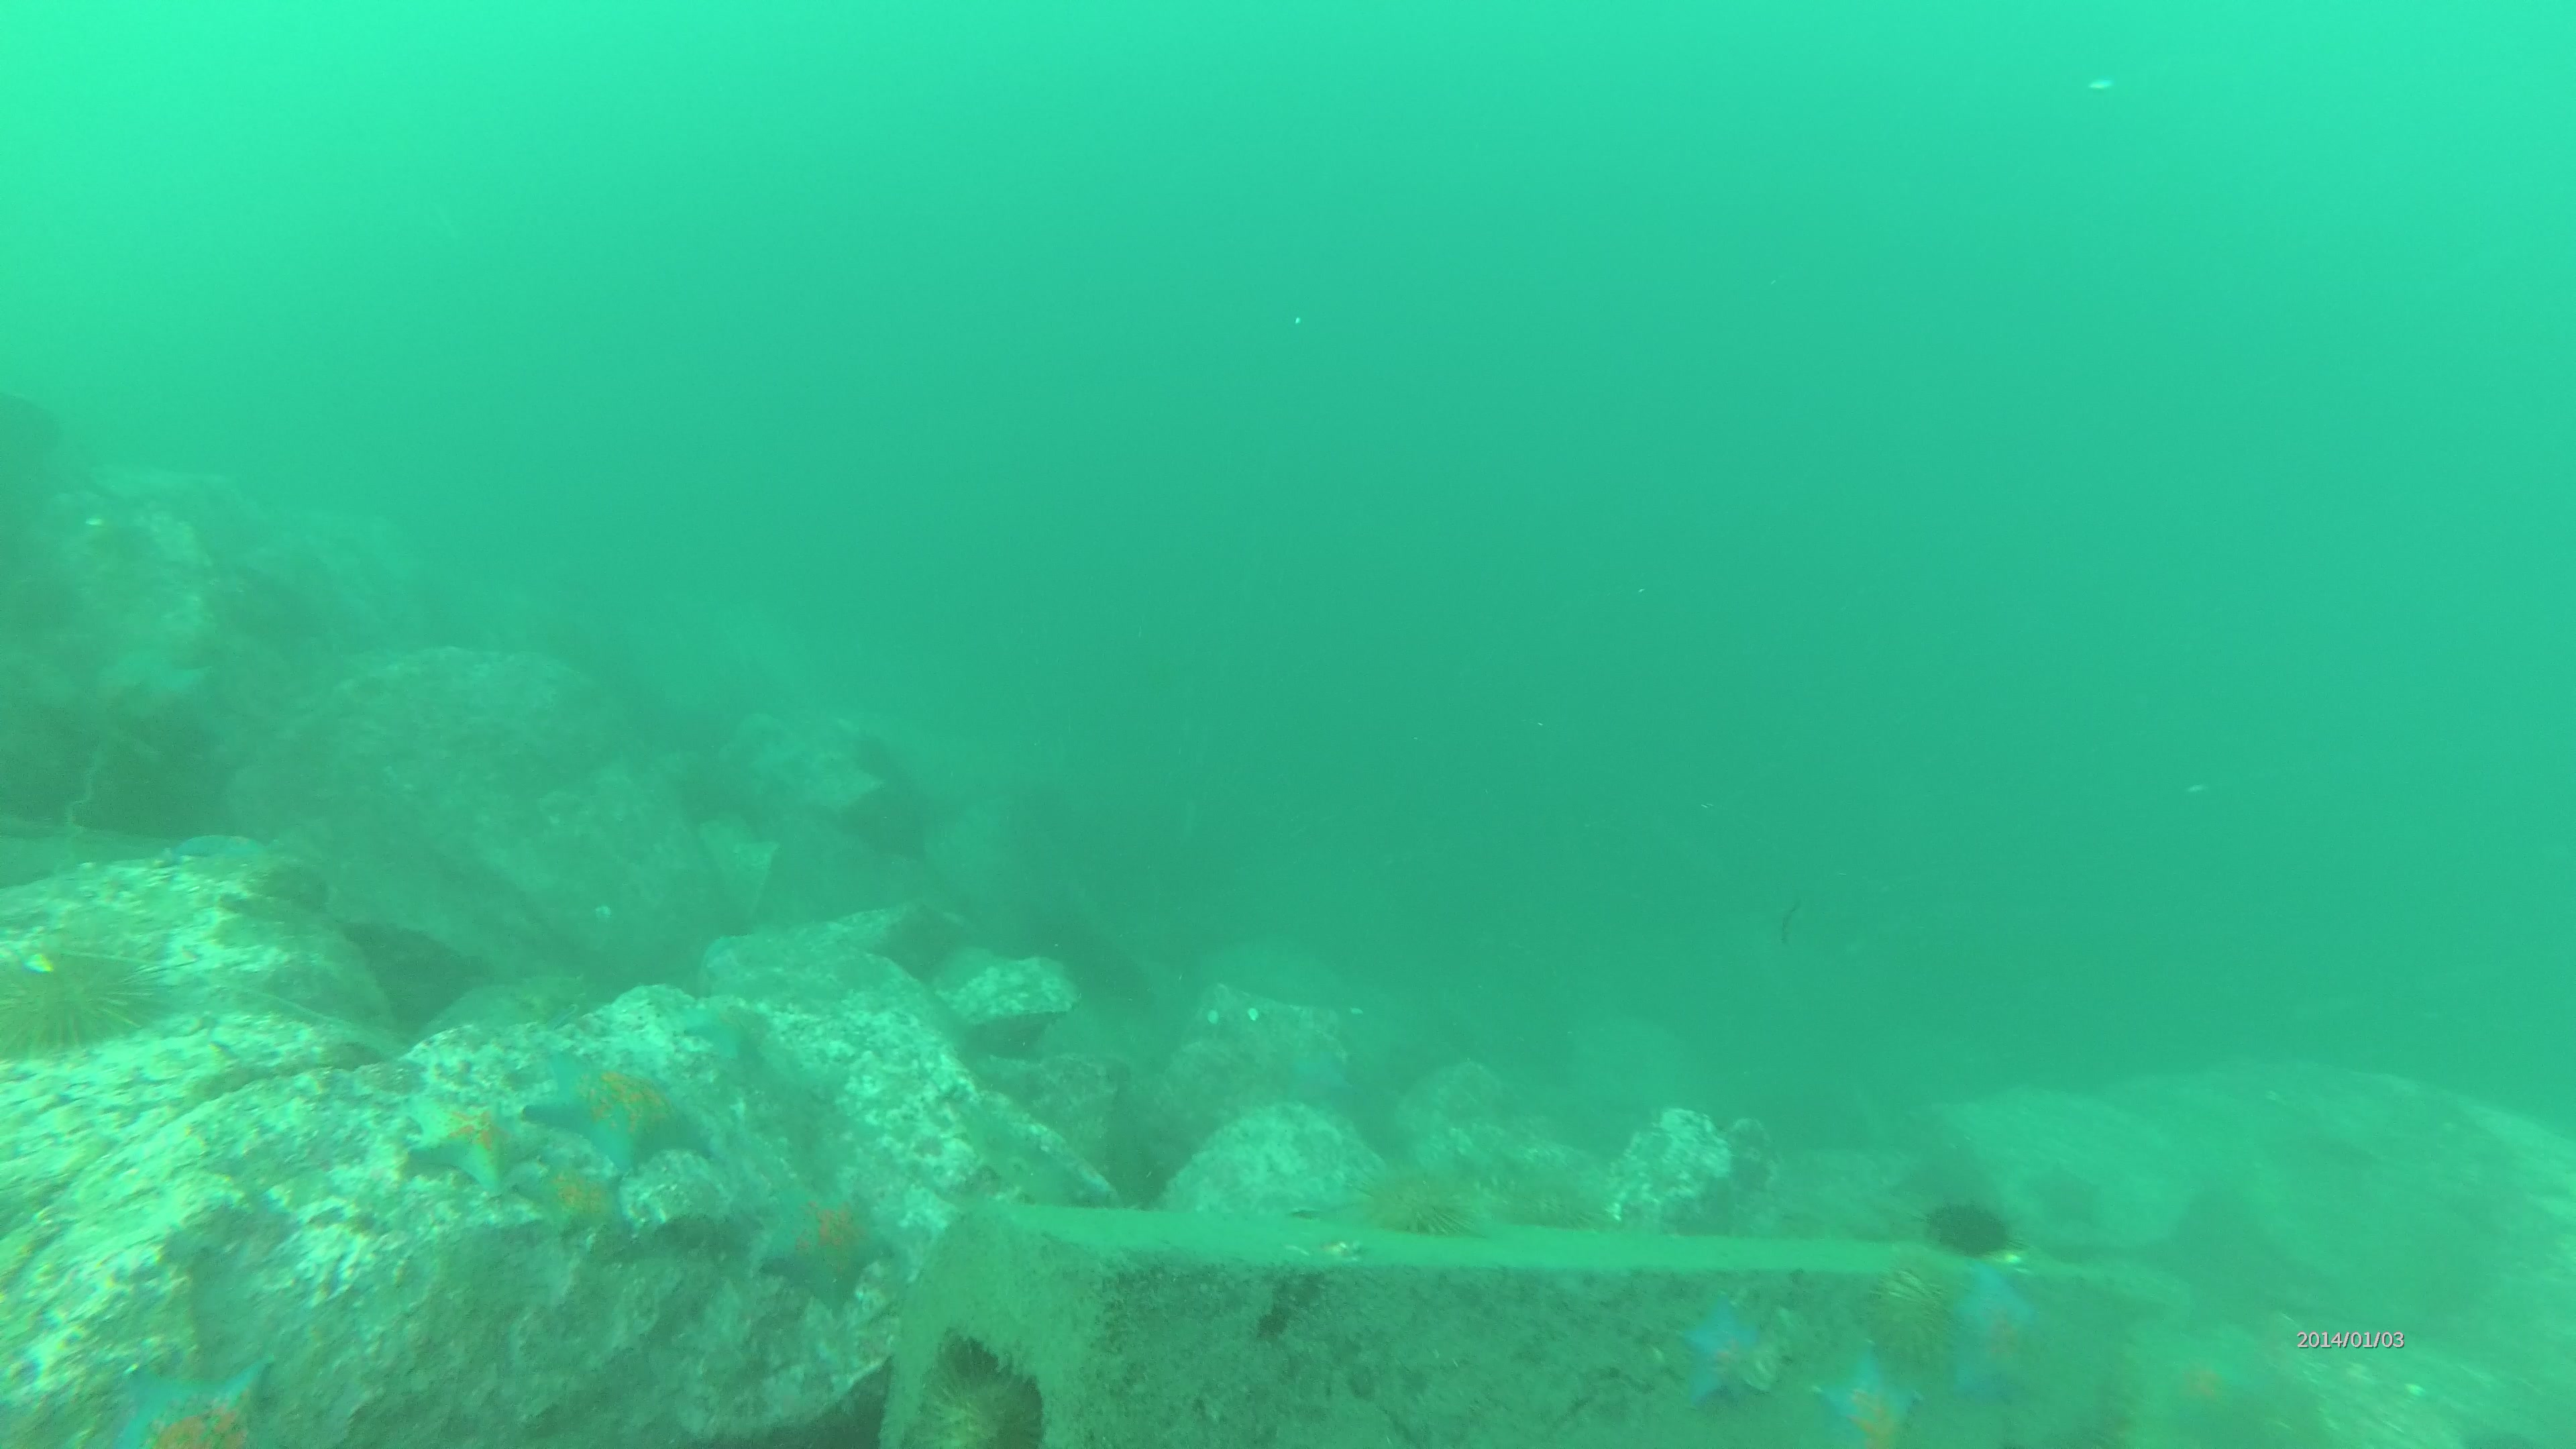echinus: (0, 934, 172, 1049), (908, 1345, 1058, 1449), (1350, 1161, 1486, 1249), (1481, 1150, 1591, 1244), (1865, 1260, 1953, 1362), (1916, 1192, 2015, 1263)
starfish: (545, 1047, 718, 1168), (752, 1171, 883, 1306), (108, 1353, 283, 1449), (393, 1092, 545, 1192), (1948, 1263, 2042, 1398), (2144, 1343, 2259, 1449), (1663, 1304, 1773, 1408), (1815, 1343, 1920, 1449), (518, 1166, 642, 1253), (679, 994, 778, 1070)
